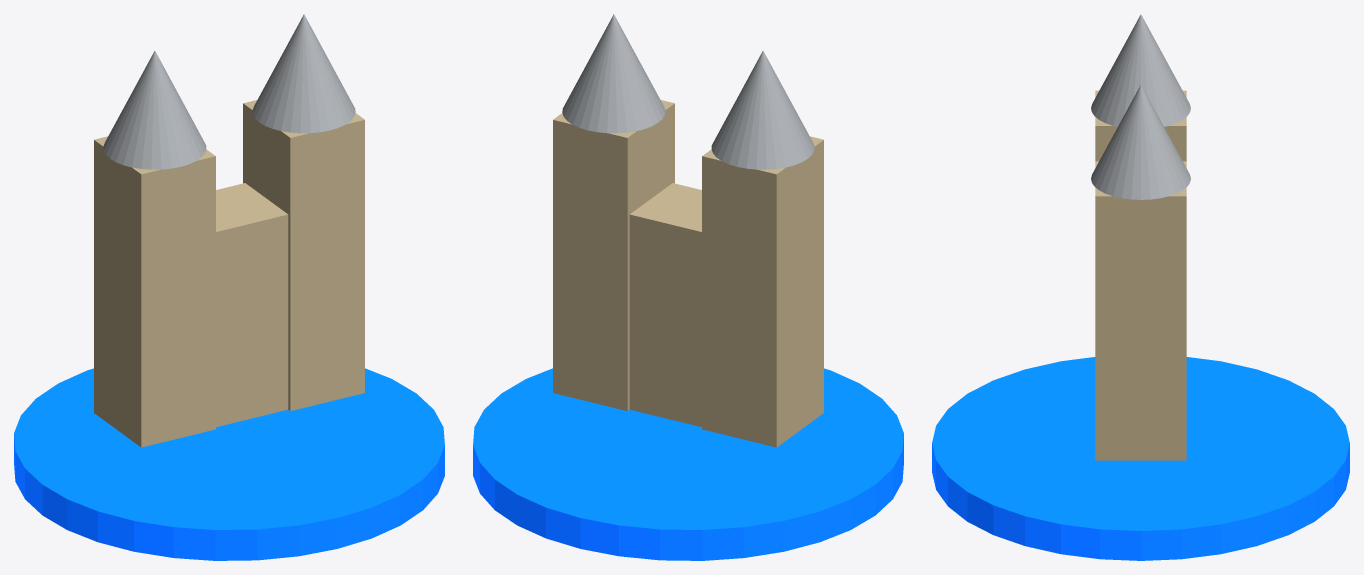
File: french_cathedral.dae
3 renders of one model, left to right at view 1: azimuth 30°, elevation 25°; view 2: azimuth 150°, elevation 25°; view 3: azimuth 270°, elevation 25°, orthographic. The views are drawn at different scales.
Parts seen in each view (by area): view 1: 10_16_Popular_French_Cathedral_ROOT_base, 10_16_Popular_French_Cathedral_part_01, 10_16_Popular_French_Cathedral_part_02, 10_16_Popular_French_Cathedral_part_05, 10_16_Popular_French_Cathedral_part_04, 10_16_Popular_French_Cathedral_part_03; view 2: 10_16_Popular_French_Cathedral_ROOT_base, 10_16_Popular_French_Cathedral_part_01, 10_16_Popular_French_Cathedral_part_02, 10_16_Popular_French_Cathedral_part_05, 10_16_Popular_French_Cathedral_part_04, 10_16_Popular_French_Cathedral_part_03; view 3: 10_16_Popular_French_Cathedral_ROOT_base, 10_16_Popular_French_Cathedral_part_02, 10_16_Popular_French_Cathedral_part_04, 10_16_Popular_French_Cathedral_part_03, 10_16_Popular_French_Cathedral_part_01.
Boxes of the visible parts, x1,y1,x2,y2 form: 10_16_Popular_French_Cathedral_ROOT_base: (14, 368, 444, 560); 10_16_Popular_French_Cathedral_part_01: (94, 136, 215, 447); 10_16_Popular_French_Cathedral_part_02: (243, 100, 364, 410); 10_16_Popular_French_Cathedral_part_05: (216, 183, 288, 427); 10_16_Popular_French_Cathedral_part_04: (252, 14, 355, 133); 10_16_Popular_French_Cathedral_part_03: (103, 51, 206, 169); 10_16_Popular_French_Cathedral_ROOT_base: (473, 368, 903, 560); 10_16_Popular_French_Cathedral_part_01: (702, 136, 823, 447); 10_16_Popular_French_Cathedral_part_02: (553, 100, 674, 410); 10_16_Popular_French_Cathedral_part_05: (629, 183, 701, 427); 10_16_Popular_French_Cathedral_part_04: (562, 14, 665, 133); 10_16_Popular_French_Cathedral_part_03: (711, 51, 814, 169); 10_16_Popular_French_Cathedral_ROOT_base: (932, 357, 1349, 560); 10_16_Popular_French_Cathedral_part_02: (1095, 161, 1186, 460); 10_16_Popular_French_Cathedral_part_04: (1091, 85, 1190, 199); 10_16_Popular_French_Cathedral_part_03: (1091, 14, 1190, 126); 10_16_Popular_French_Cathedral_part_01: (1095, 90, 1186, 161).
Bounding box in the file's own units: 0.76 × 0.85 × 0.76.
